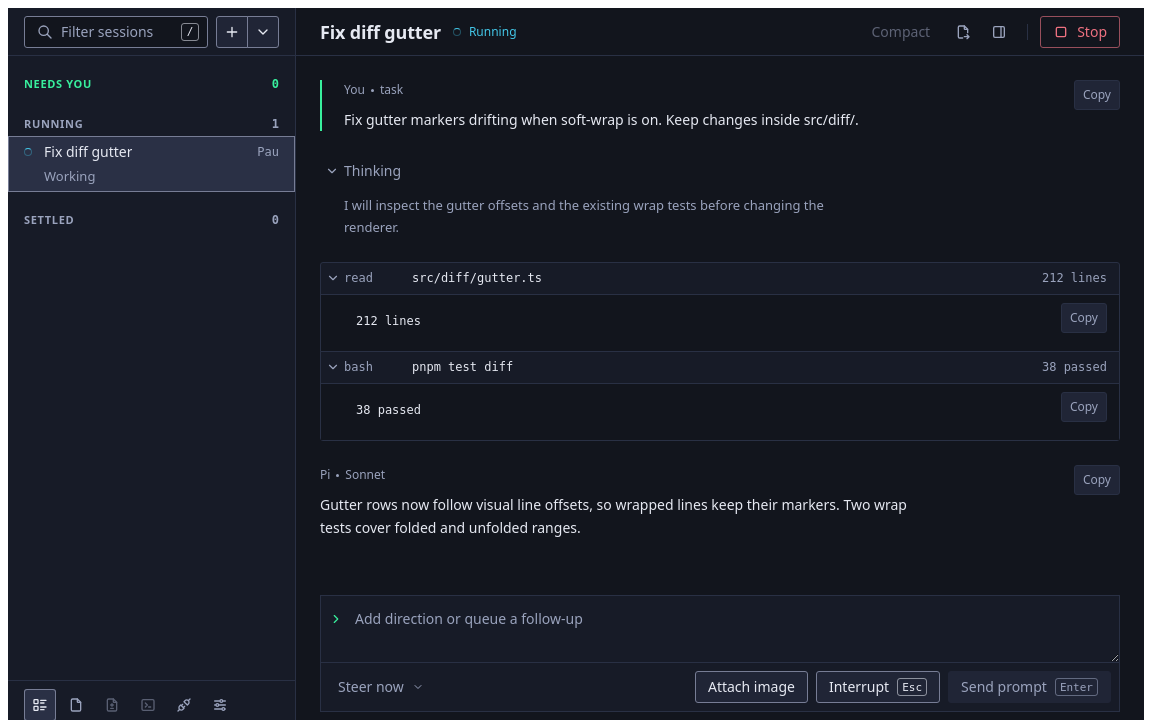
Test case: opens the / completion list above the composer without moving the transcript
Type "/" into the text box named "Prompt".
click(731, 629); type("/")  # box [343,596,1119,662]
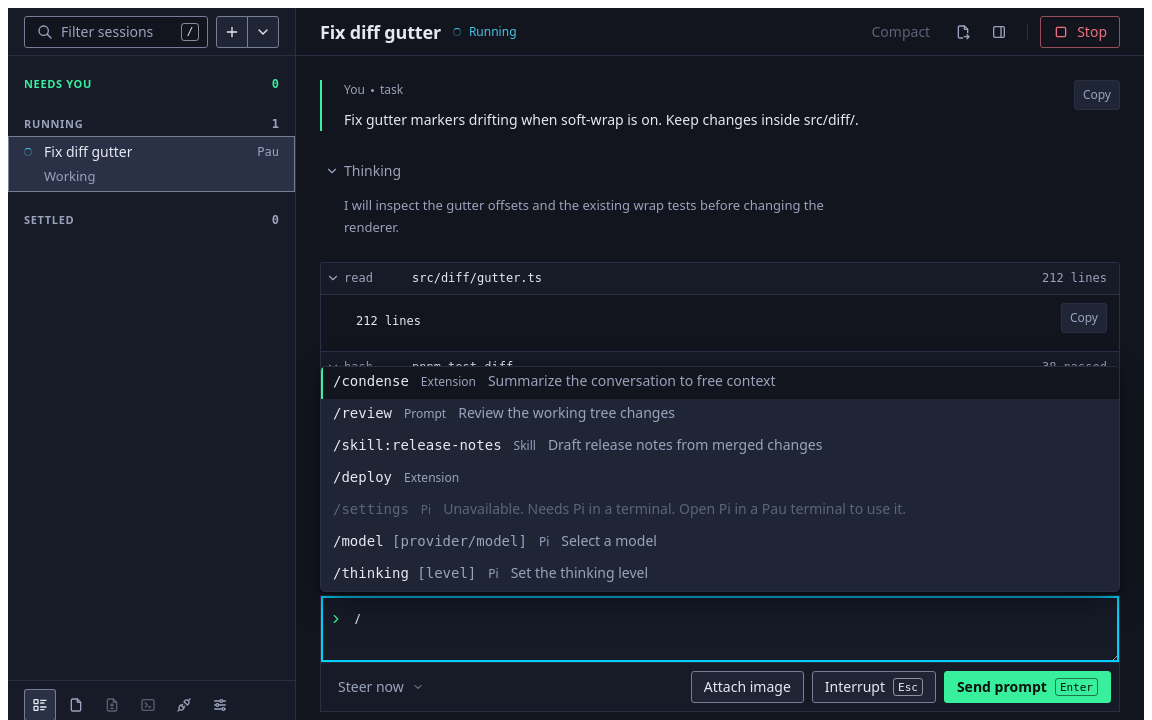
expect the option that starts with "/condense" is shown: met, box [321,367,1119,399]
